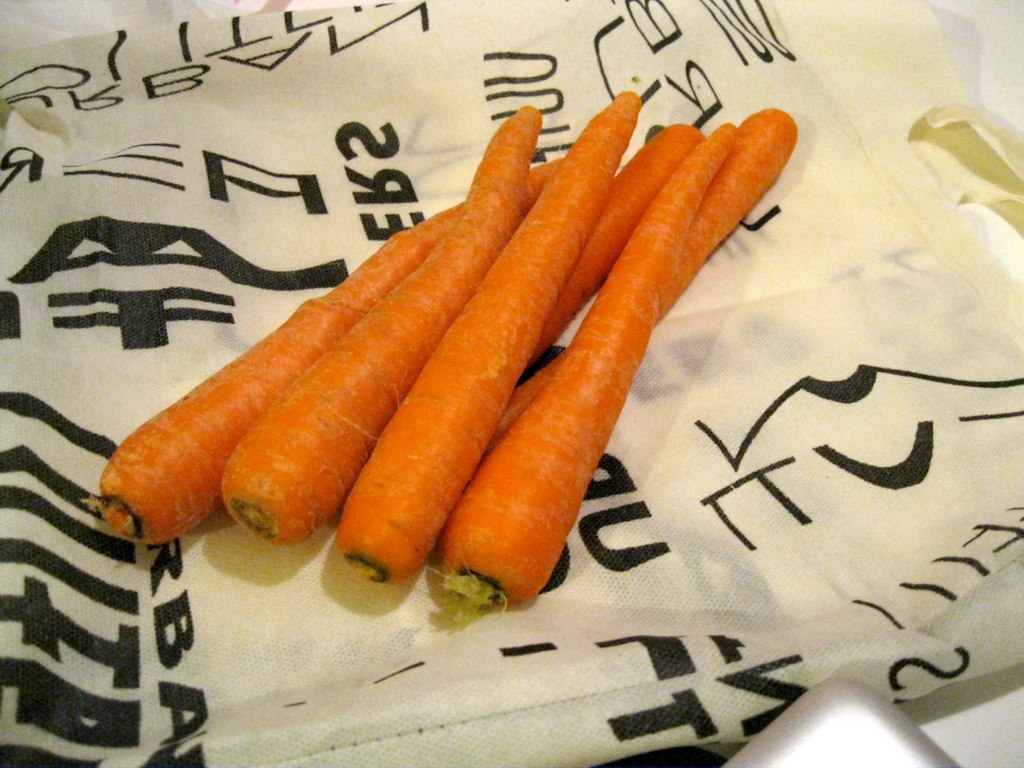Carrot: (80, 90, 797, 635)
